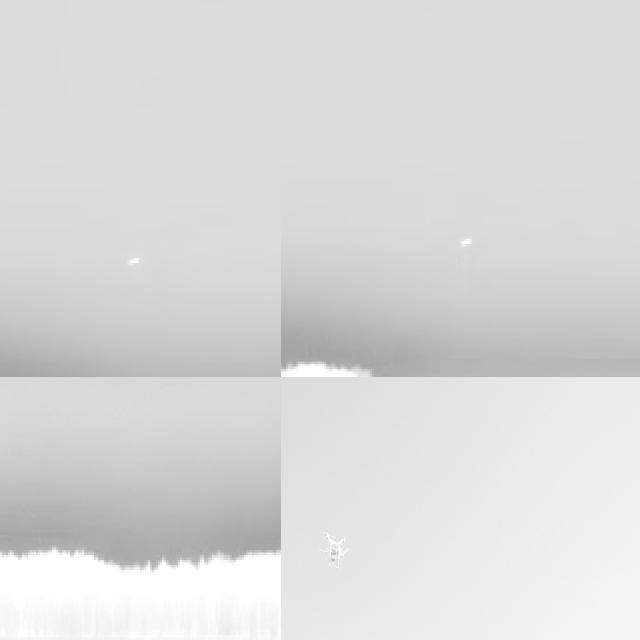1: (446, 226, 486, 270), (116, 248, 152, 286)
drone: (320, 521, 352, 576)
